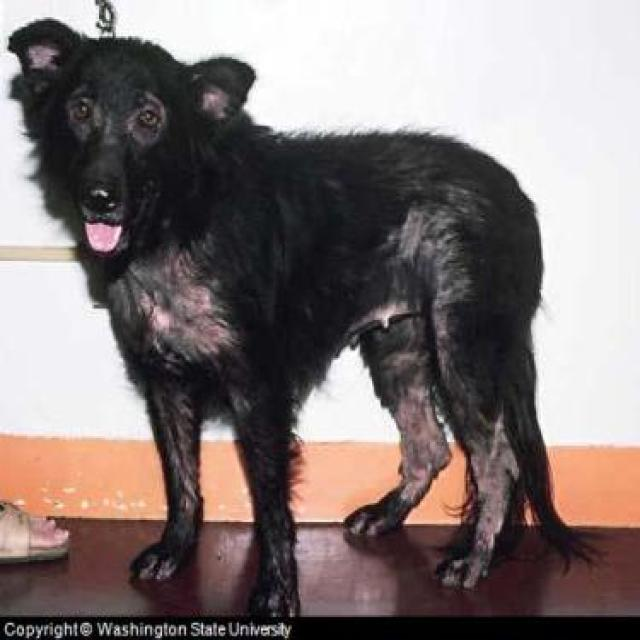allergic dermatitis: (136, 242, 246, 381), (380, 397, 452, 500), (460, 440, 524, 550)
